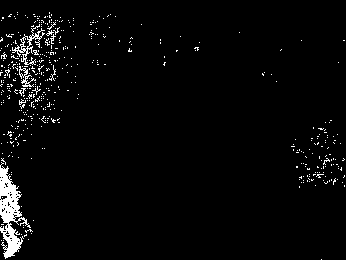person: (1, 155, 31, 254)
